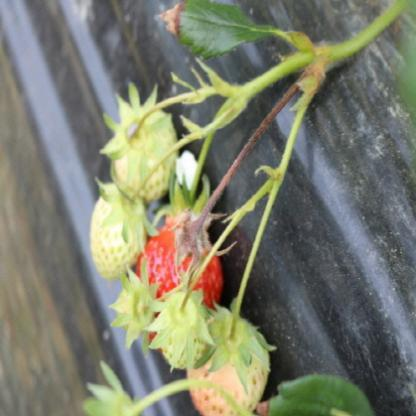Strawberry_Gray_Mold: (166, 206, 236, 280)
